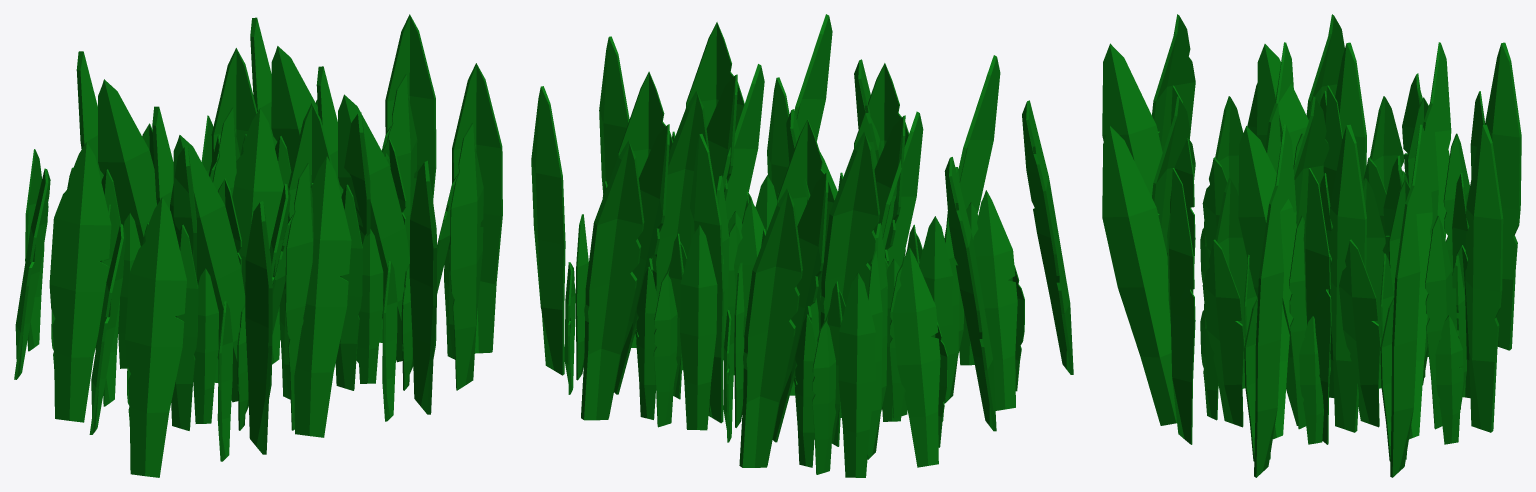
The model's file is Grass4.fbx.
The picture shows the model from 3 angles, left to right: view 1: azimuth 30°, elevation 25°; view 2: azimuth 150°, elevation 25°; view 3: azimuth 270°, elevation 25°; orthographic projection. The views are drawn at different scales.
Visible parts, largest first — view 1: Grass; view 2: Grass; view 3: Grass.
Boxes of the visible parts, x1=… form: Grass: x1=14, y1=14, x2=502, y2=477; Grass: x1=531, y1=14, x2=1073, y2=477; Grass: x1=1102, y1=14, x2=1521, y2=477.
Size of the model in its own units: 201 by 131 by 171.
